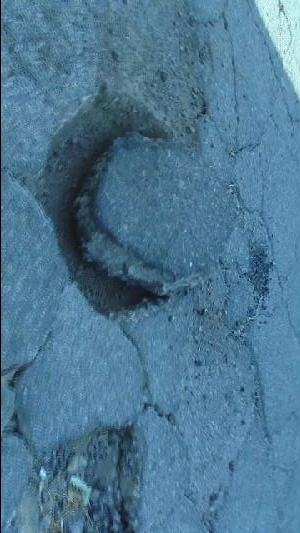pothole: (29, 84, 190, 322), (24, 417, 143, 533)
